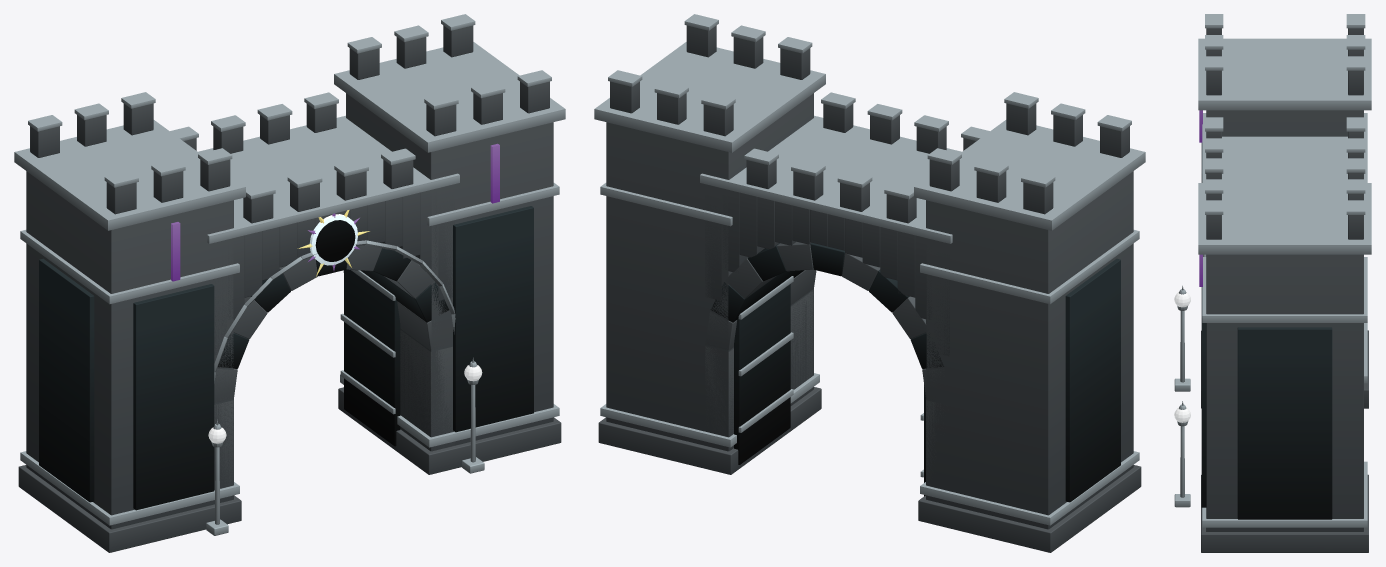
Rendered from barrowhold_gate.glb.
3 views of the same model, side by side, from view 1: azimuth 30°, elevation 25°; view 2: azimuth 150°, elevation 25°; view 3: azimuth 270°, elevation 25° (orthographic). The views are drawn at different scales.
Parts seen in each view (by area): view 1: barrowhold_gate; view 2: barrowhold_gate; view 3: barrowhold_gate.
Boxes of the visible parts, box(x1,y1,x2,y2) form: barrowhold_gate: box(14, 14, 565, 552); barrowhold_gate: box(594, 14, 1145, 552); barrowhold_gate: box(1174, 14, 1371, 552).
Size of the model in its own units: 18.6 by 14.22 by 7.52.
Materials: 6 (6 with a texture image).
